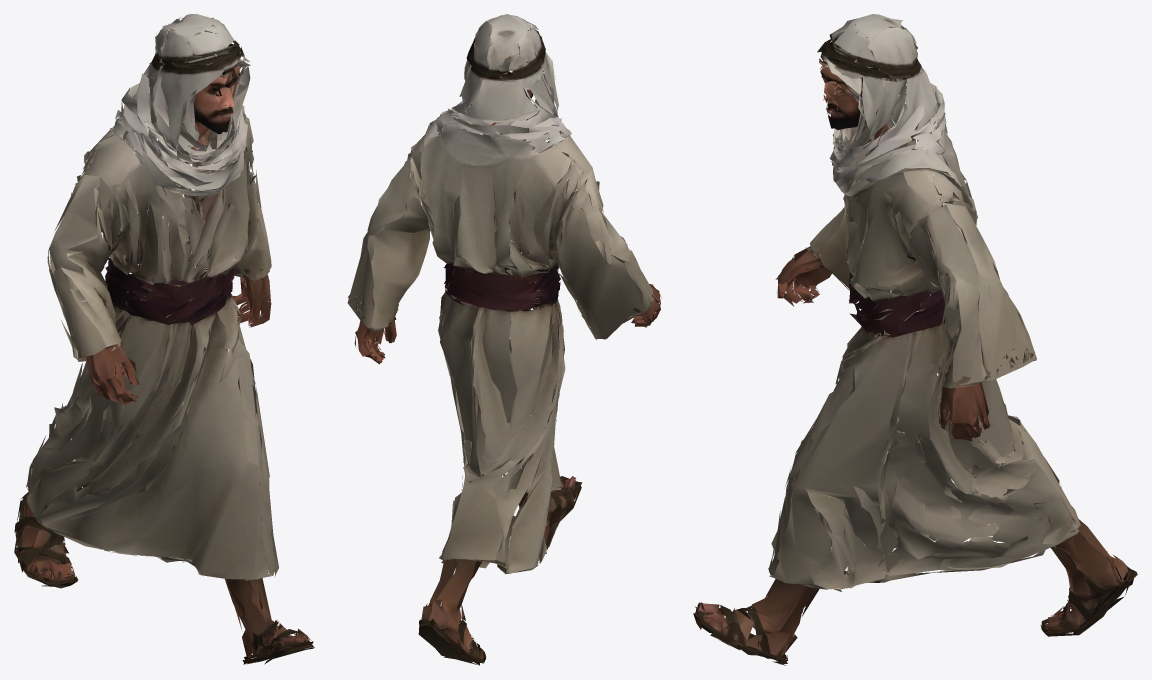
The model's file is traveler-stride.glb.
3 views of the same model, side by side, from view 1: azimuth 30°, elevation 25°; view 2: azimuth 150°, elevation 25°; view 3: azimuth 270°, elevation 25° (orthographic). The views are drawn at different scales.
Visible parts, largest first — view 1: world; view 2: world; view 3: world.
Part boxes in pixels (x1,y1,x2,y2): world: (14, 14, 314, 664); world: (347, 14, 661, 665); world: (693, 14, 1137, 665).
Size of the model in its own units: 0.4447 by 1.01 by 0.6374.
Materials: 1 (1 with a texture image).
